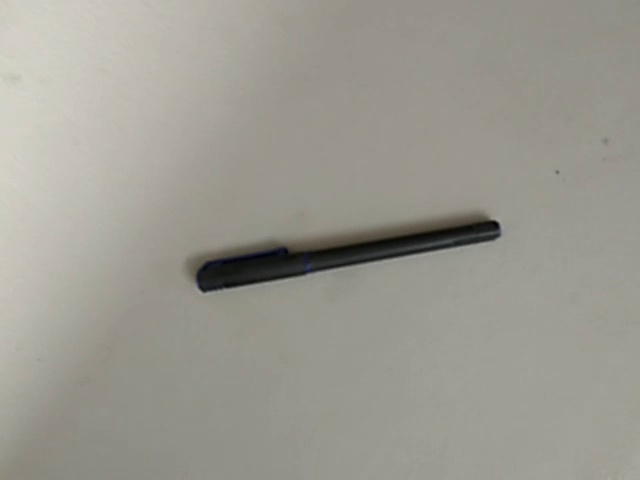Pen: (179, 205, 532, 301)
